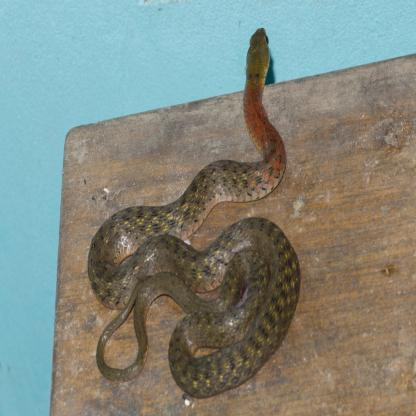Snake: (71, 28, 299, 402)
